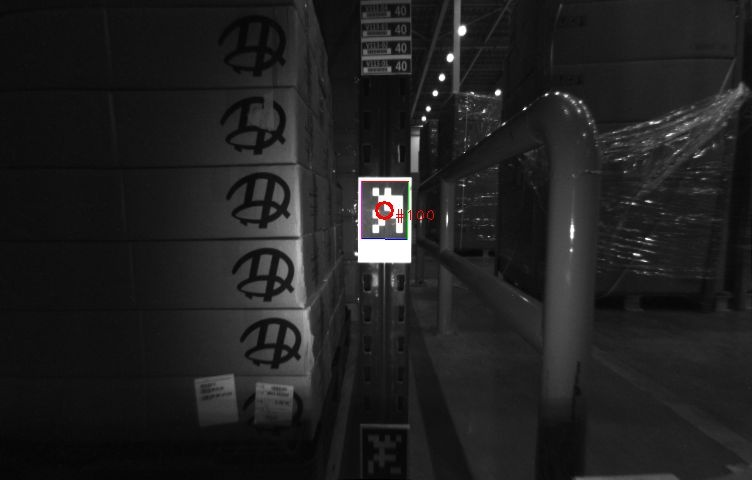True Barcode: (253, 383, 295, 426)
